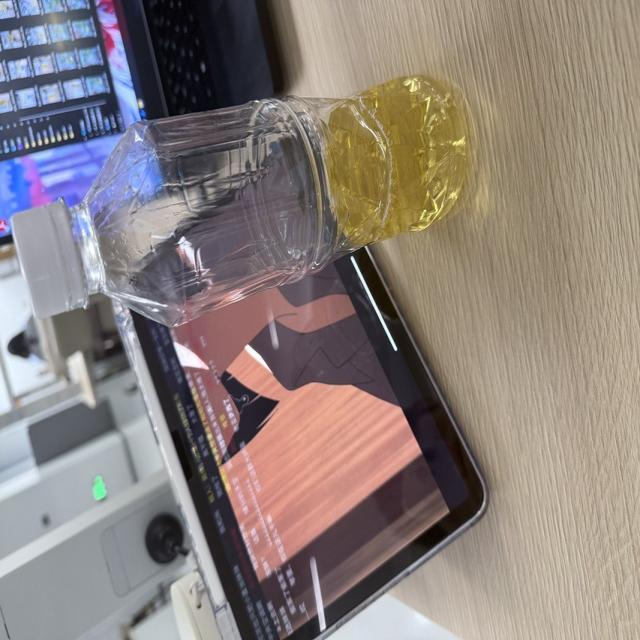low: (14, 76, 467, 326)
